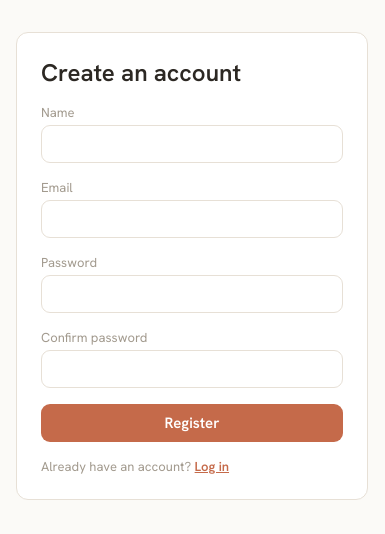
Test: RegisterPage › blocks submission when passwords do not match
In the field labelled "Name": (192, 144) top-left (41, 125), bottom-right (343, 163), type "Ada"
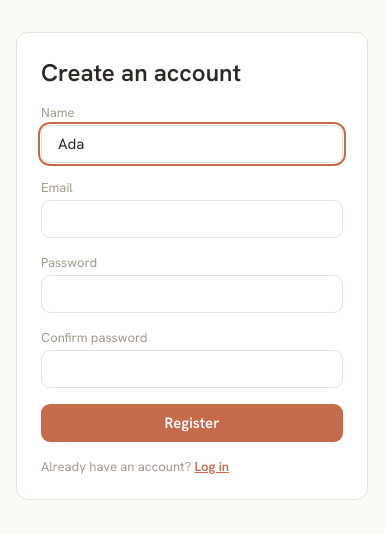
In the field labelled "Email": (192, 219) top-left (41, 200), bottom-right (343, 238), type "ada@example.com"
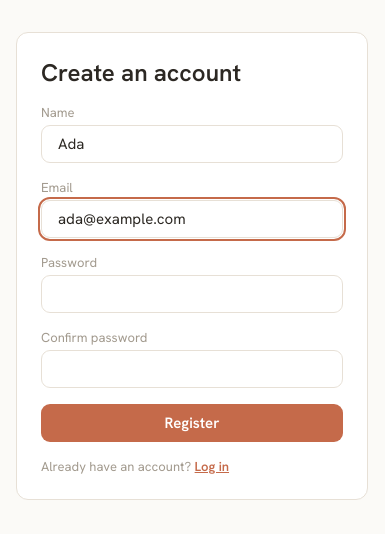
In the password field labelled "Password": (192, 294) top-left (41, 275), bottom-right (343, 313), type "secret"
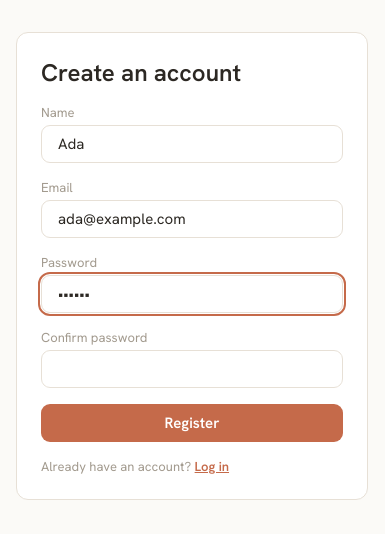
In the password field labelled "Confirm password": (192, 369) top-left (41, 350), bottom-right (343, 388), type "different"
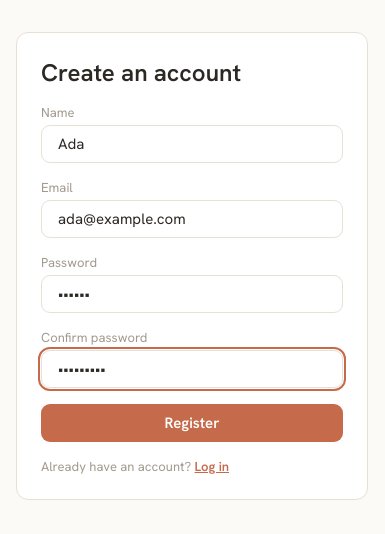
Click the button "Register": (192, 423) top-left (41, 404), bottom-right (343, 442)
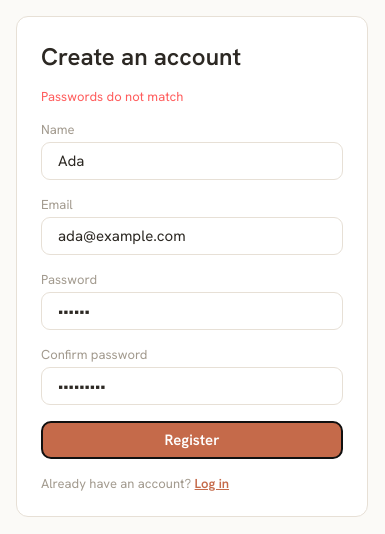
Expected: the text "Passwords do not match" is shown, top-left (41, 88), bottom-right (183, 104)
